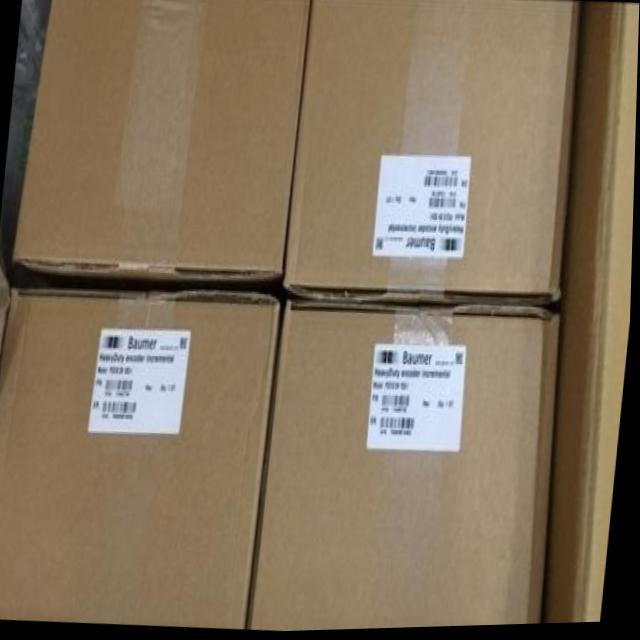box: (249, 302, 561, 633), (0, 292, 283, 629), (286, 0, 581, 313), (14, 0, 311, 282)
